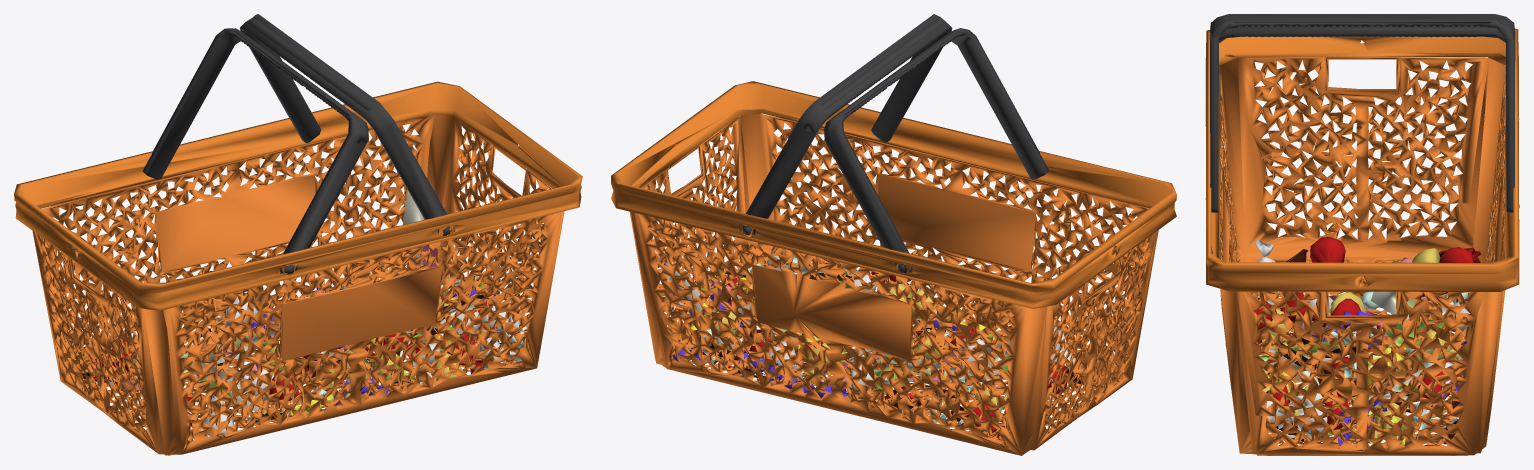
File: basket.glb
3 views of the same model, side by side, from view 1: azimuth 30°, elevation 25°; view 2: azimuth 150°, elevation 25°; view 3: azimuth 270°, elevation 25° (orthographic). The views are drawn at different scales.
Parts seen in each view (by area): view 1: Cube.013_Cube.008, Cube.003_Cube.004, Cube.001, Cube.002, Sphere.010_Sphere.001, Sphere.069_Sphere.001, Sphere.045_Sphere.001, Sphere.022_Sphere.001; view 2: Cube.013_Cube.008, Cube.003_Cube.004, Cube.001, Cube.002, Sphere.045_Sphere.001, Sphere.010_Sphere.001, Sphere.069_Sphere.001, Sphere.074_Sphere.001, Sphere.031_Sphere.001, Sphere.022_Sphere.001; view 3: Cube.013_Cube.008, Cube.003_Cube.004, Cube.001, Cube.002, Sphere.069_Sphere.001, Sphere.045_Sphere.001, Sphere.010_Sphere.001, Sphere.074_Sphere.001, Sphere.068_Sphere.114, Sphere.008_Sphere.001, Sphere.083_Sphere.003, Sphere.024_Sphere.001 (+2 smaller).
Part boxes in pixels (left/top/right/bottom): Cube.013_Cube.008: left=32, top=114, right=564, bottom=455; Cube.003_Cube.004: left=14, top=81, right=582, bottom=310; Cube.001: left=240, top=14, right=454, bottom=236; Cube.002: left=142, top=28, right=368, bottom=273; Sphere.010_Sphere.001: left=203, top=295, right=521, bottom=436; Sphere.069_Sphere.001: left=93, top=299, right=486, bottom=405; Sphere.045_Sphere.001: left=128, top=296, right=462, bottom=387; Sphere.022_Sphere.001: left=238, top=190, right=437, bottom=371; Cube.013_Cube.008: left=629, top=114, right=1158, bottom=455; Cube.003_Cube.004: left=611, top=81, right=1176, bottom=308; Cube.001: left=738, top=14, right=952, bottom=235; Cube.002: left=824, top=28, right=1049, bottom=273; Sphere.045_Sphere.001: left=707, top=283, right=1006, bottom=418; Sphere.010_Sphere.001: left=744, top=263, right=1075, bottom=393; Sphere.069_Sphere.001: left=727, top=271, right=1067, bottom=438; Sphere.074_Sphere.001: left=688, top=323, right=1084, bottom=425; Sphere.031_Sphere.001: left=672, top=282, right=956, bottom=398; Sphere.022_Sphere.001: left=659, top=256, right=953, bottom=382; Cube.013_Cube.008: left=1219, top=57, right=1505, bottom=455; Cube.003_Cube.004: left=1205, top=28, right=1519, bottom=291; Cube.001: left=1210, top=20, right=1514, bottom=212; Cube.002: left=1209, top=14, right=1515, bottom=60; Sphere.069_Sphere.001: left=1254, top=237, right=1481, bottom=429; Sphere.045_Sphere.001: left=1259, top=248, right=1459, bottom=443; Sphere.010_Sphere.001: left=1254, top=240, right=1470, bottom=437; Sphere.074_Sphere.001: left=1258, top=248, right=1470, bottom=444; Sphere.068_Sphere.114: left=1368, top=291, right=1432, bottom=399; Sphere.008_Sphere.001: left=1281, top=291, right=1470, bottom=429; Sphere.083_Sphere.003: left=1267, top=342, right=1418, bottom=444; Sphere.024_Sphere.001: left=1260, top=320, right=1444, bottom=360.
Size of the model in its own units: 4.01 by 2.71 by 2.2.
Materials: 15 (8 with a texture image).
